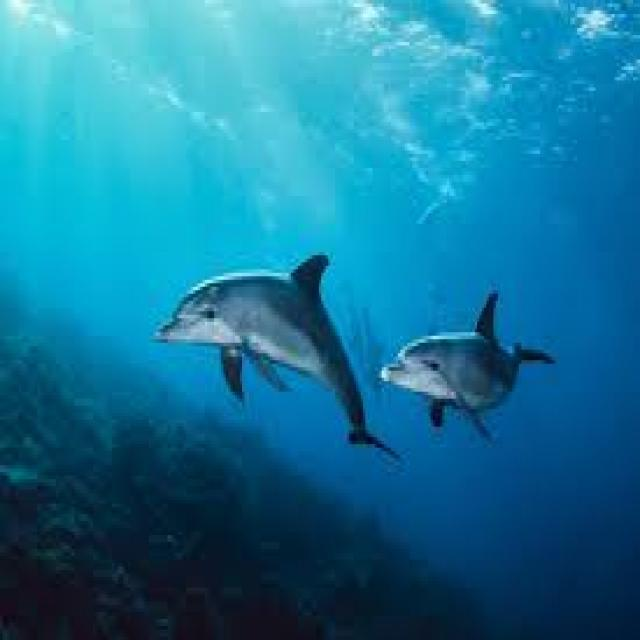dolphin: (130, 230, 382, 552), (379, 213, 584, 525)
